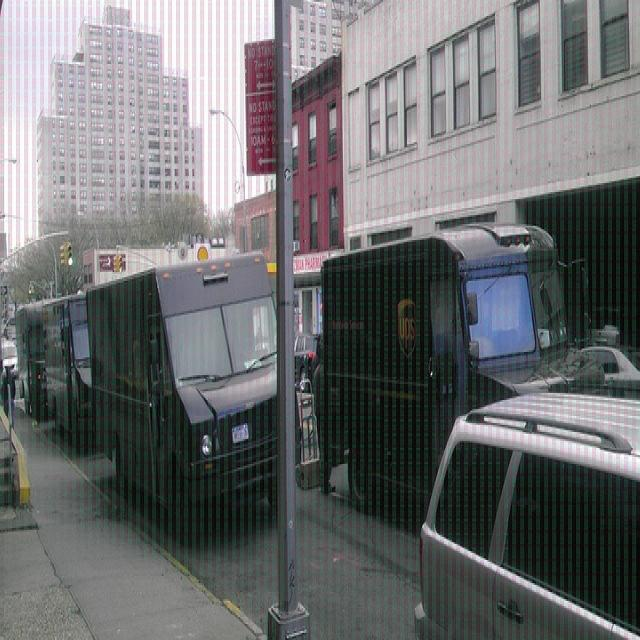car: (413, 390, 639, 638), (575, 342, 636, 382), (0, 334, 16, 374)
pole: (265, 0, 312, 633)
truck: (316, 215, 604, 533), (83, 247, 278, 535), (41, 294, 91, 446), (15, 297, 49, 414)
